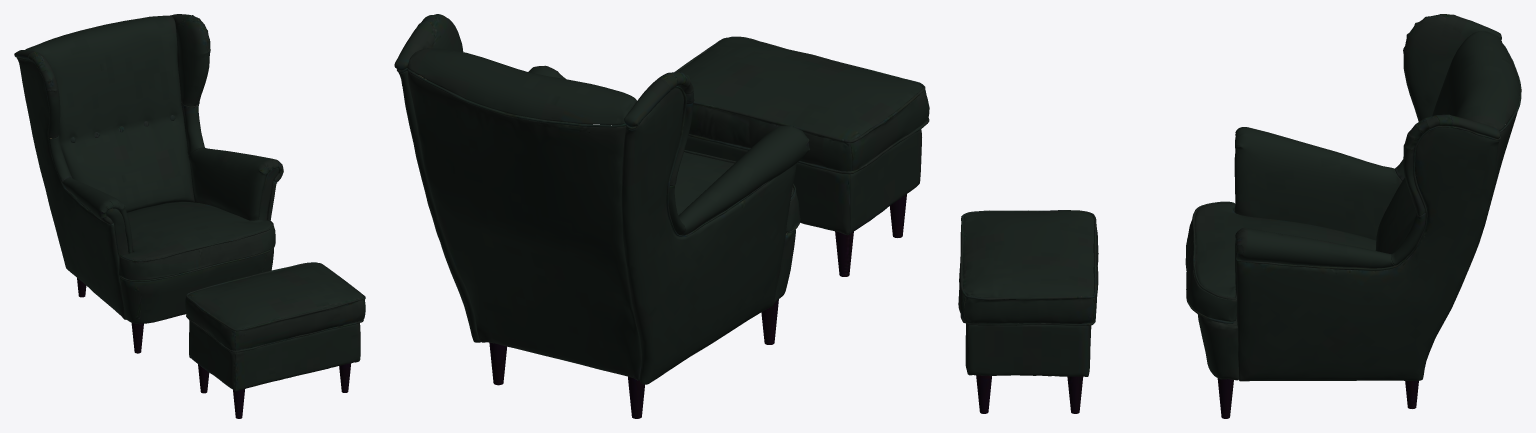
Rendered from strandmon_armchair_and_ottoman_djuparp_d.glb.
3 renders of one model, left to right at view 1: azimuth 30°, elevation 25°; view 2: azimuth 150°, elevation 25°; view 3: azimuth 270°, elevation 25°, orthographic. The views are drawn at different scales.
Visible parts, largest first — view 1: 80359844-STRANDMON001, 50360009-STRANDMON001; view 2: 80359844-STRANDMON001, 50360009-STRANDMON001; view 3: 80359844-STRANDMON001, 50360009-STRANDMON001.
Part boxes in pixels (left/top/right/bottom): 80359844-STRANDMON001: left=14, top=14, right=283, bottom=353; 50360009-STRANDMON001: left=185, top=262, right=365, bottom=418; 80359844-STRANDMON001: left=394, top=14, right=809, bottom=418; 50360009-STRANDMON001: left=675, top=36, right=929, bottom=276; 80359844-STRANDMON001: left=1185, top=14, right=1521, bottom=418; 50360009-STRANDMON001: left=958, top=210, right=1098, bottom=413.
Bounding box in the file's own units: 0.8079 × 1.01 × 1.64.
Materials: 1 (1 with a texture image).
